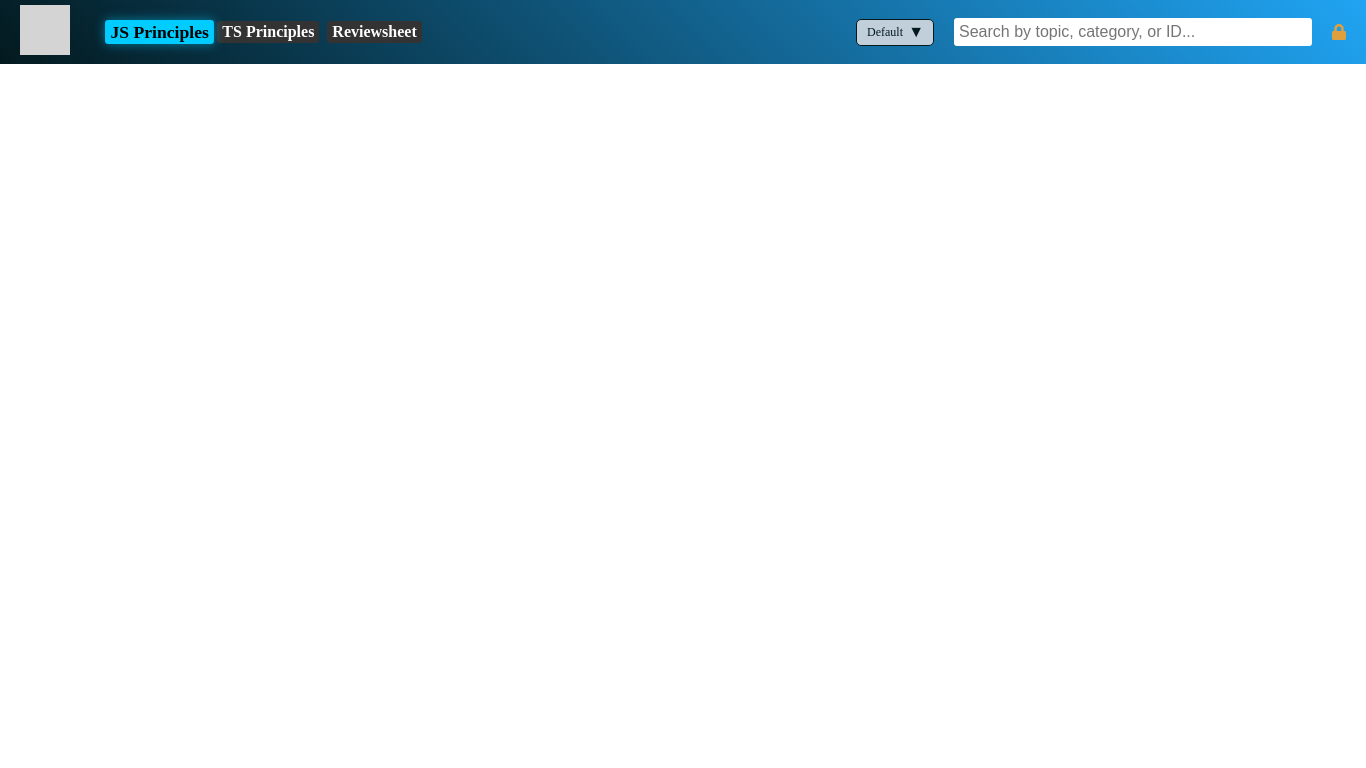
Scenario: renders Header component and toggles unlock modal
Click the button named "Unlock Feature". click: (1339, 32)
box: [1332, 24, 1346, 40]
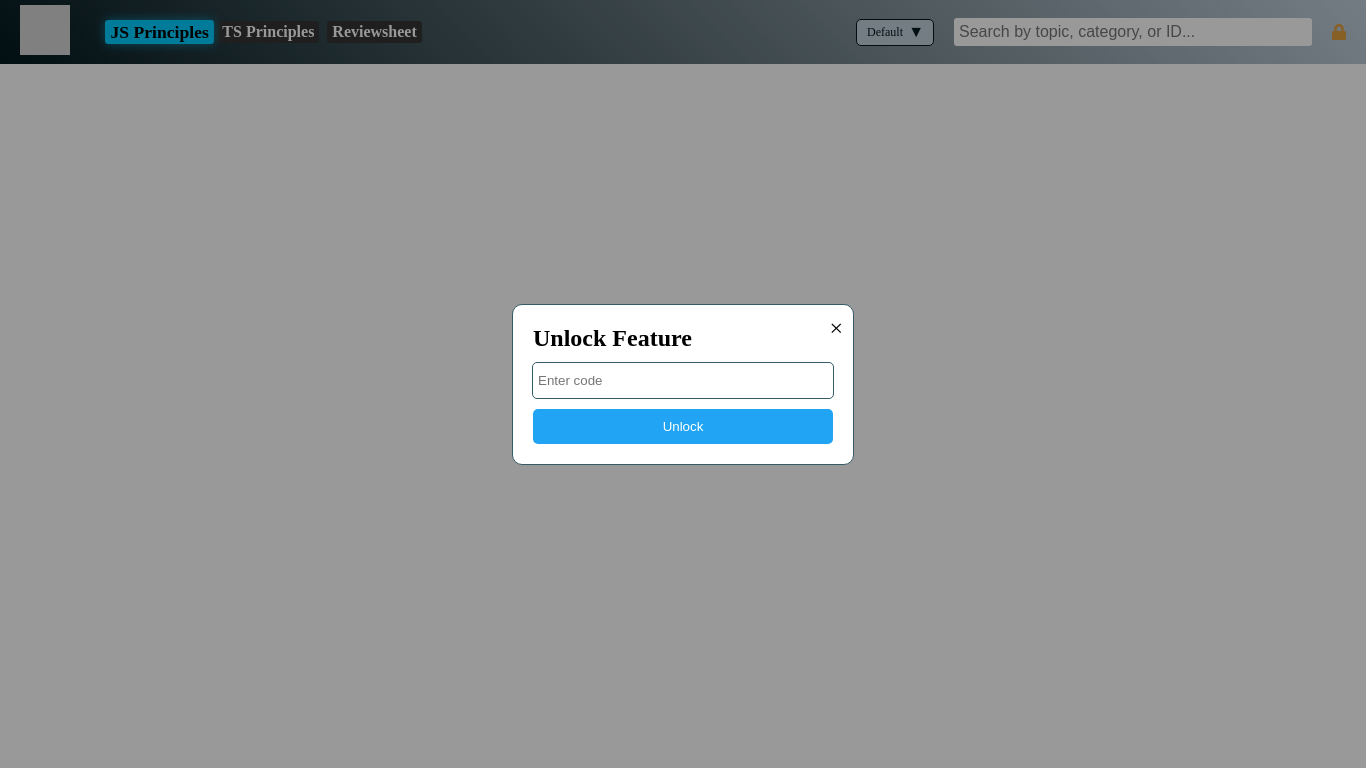
expect the heading "Unlock Feature" is shown: met, box [533, 324, 692, 350]
